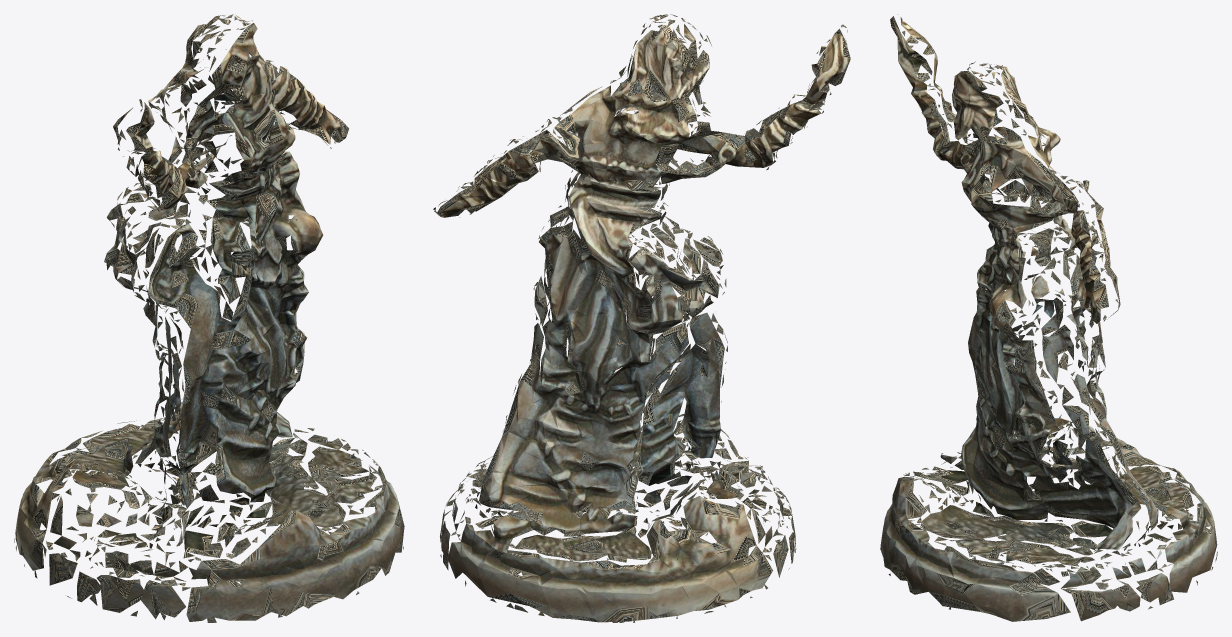
File: duana.glb
3 views of the same model, side by side, from view 1: azimuth 30°, elevation 25°; view 2: azimuth 150°, elevation 25°; view 3: azimuth 270°, elevation 25° (orthographic). The views are drawn at different scales.
Parts seen in each view (by area): view 1: geometry_0; view 2: geometry_0; view 3: geometry_0.
Boxes of the visible parts, x1,y1,x2,y2 form: geometry_0: [14, 14, 404, 622]; geometry_0: [433, 14, 850, 622]; geometry_0: [880, 14, 1217, 621].
Size of the model in its own units: 0.0141 by 0.0217 by 0.0139.
1 material, 1 textured.
